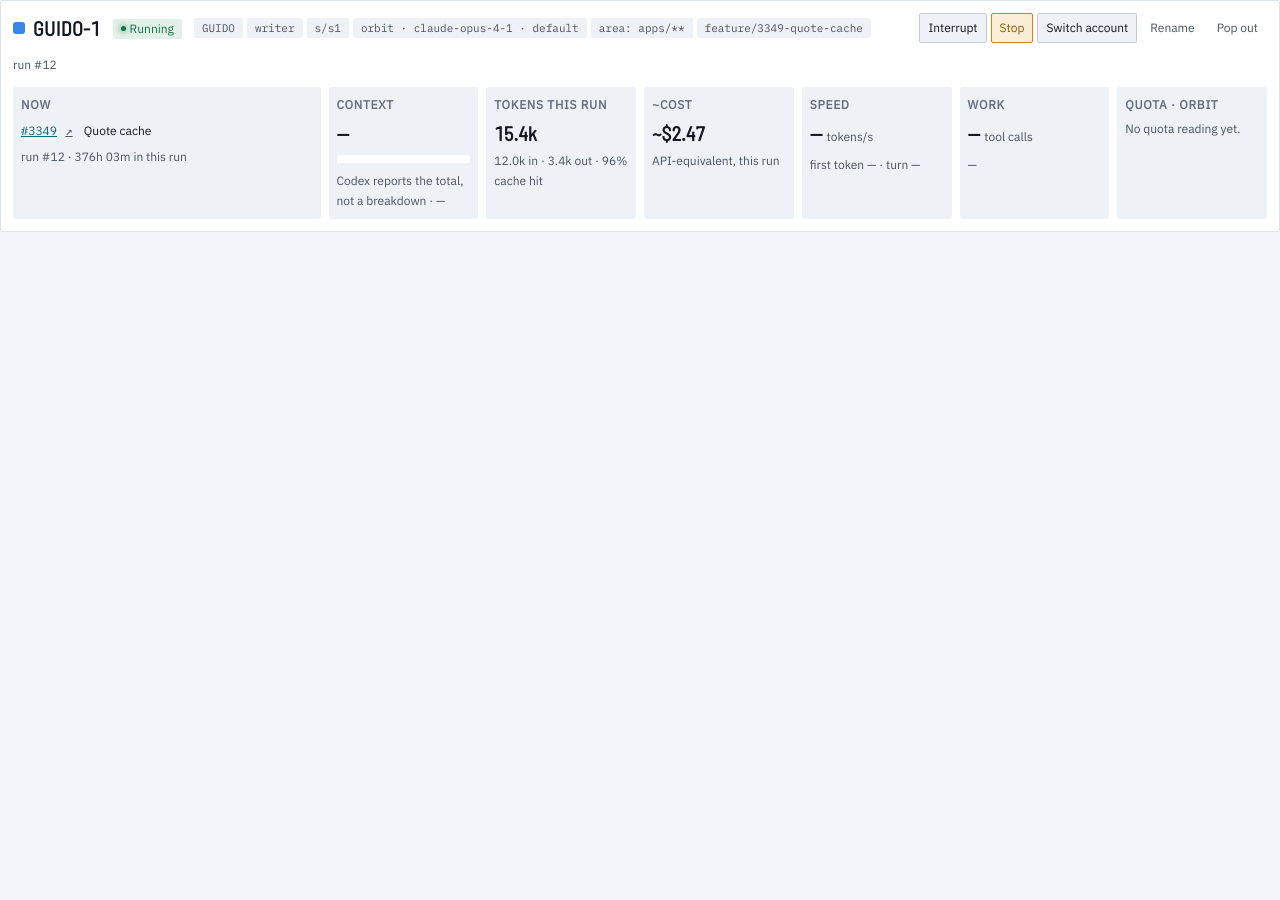
Test: reports resumed and refreshes data only after the explicit transfer
Click the button "Switch account".
click(1087, 28)  # box 1037,13 -> 1137,43
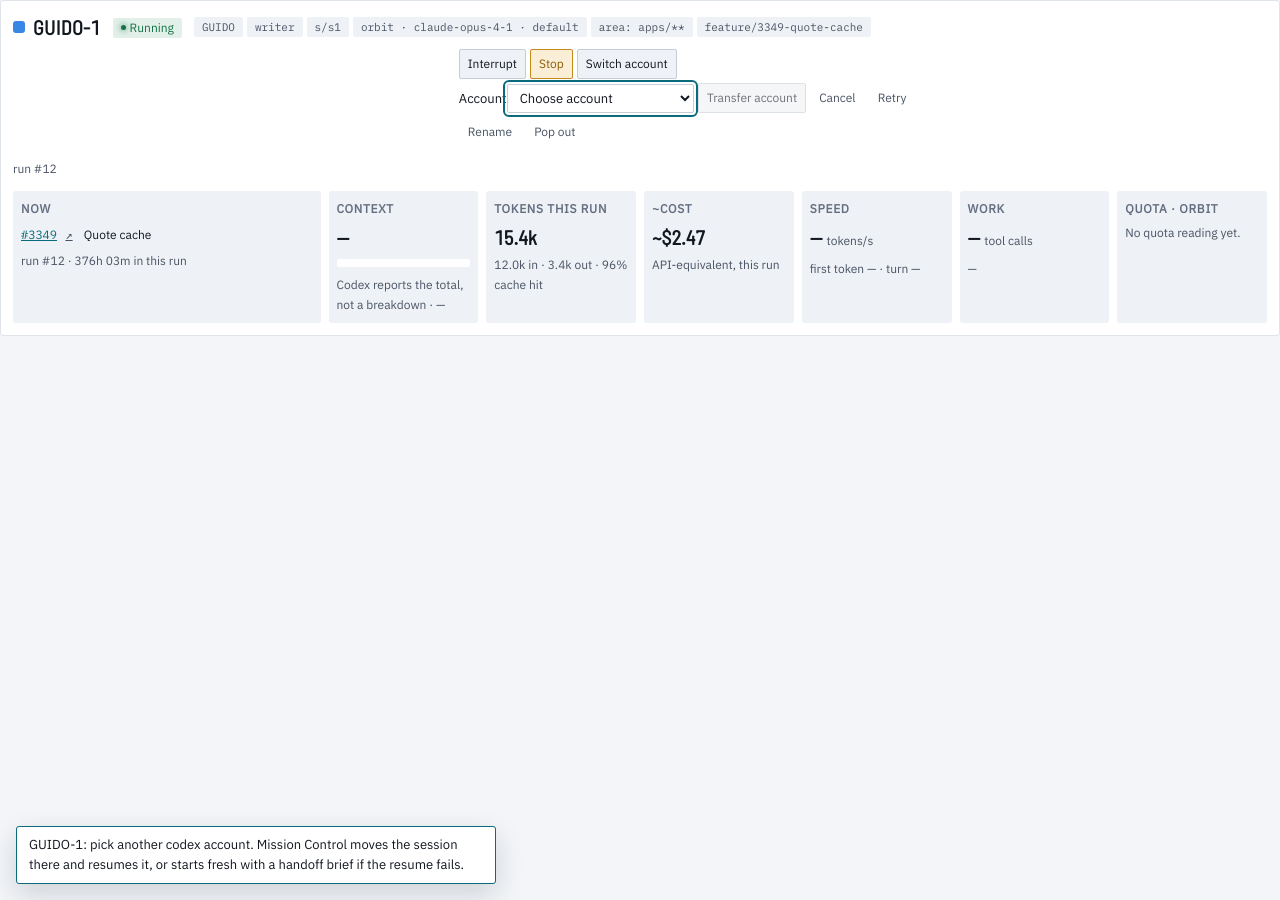
Select "nova · Available" in the dropdown labelled "Account" at [600, 98], box 507,84 -> 694,112
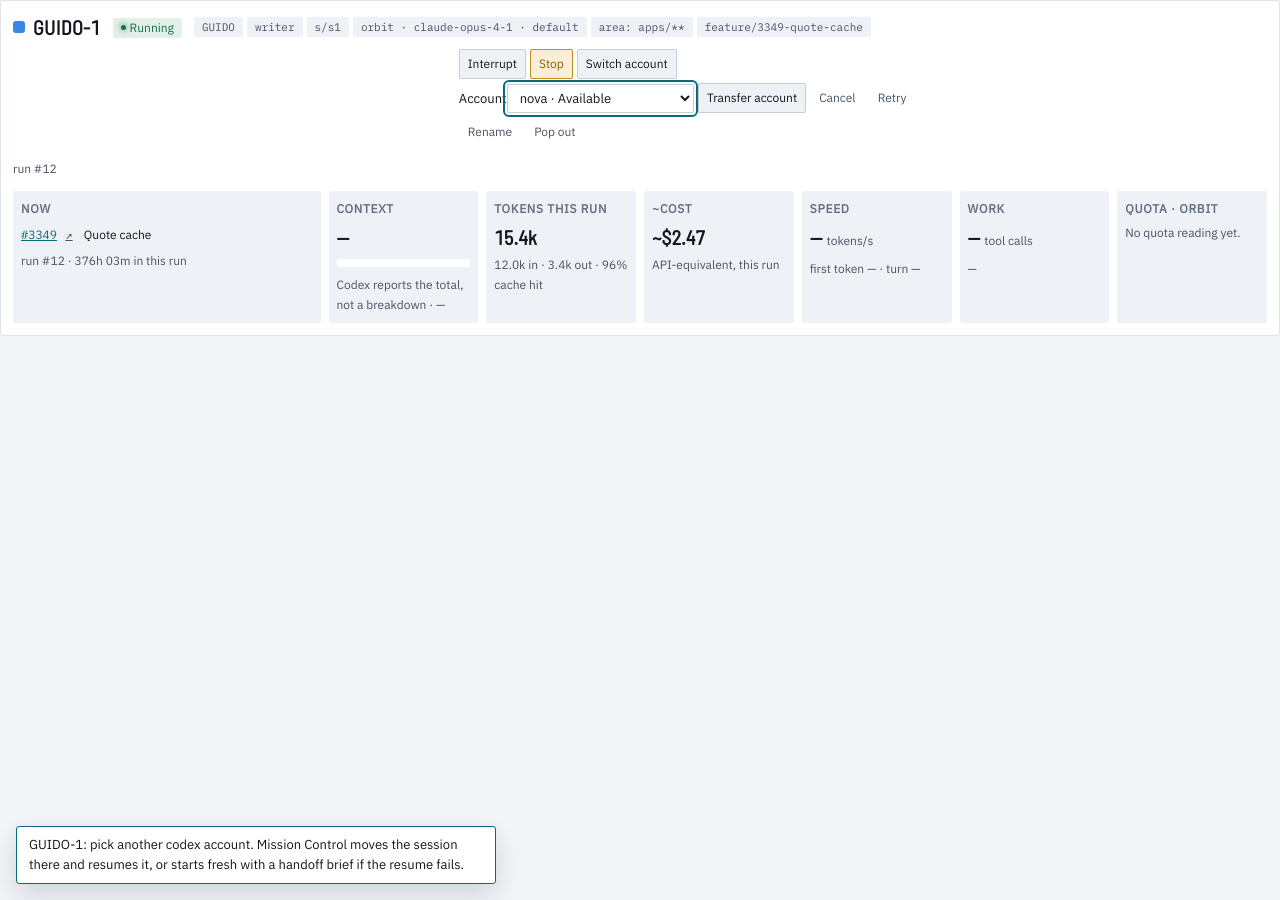
Check: the button "Transfer account" is enabled, box 698,83 -> 806,113
Submit the form named "Switch account", box 459,83 -> 915,113
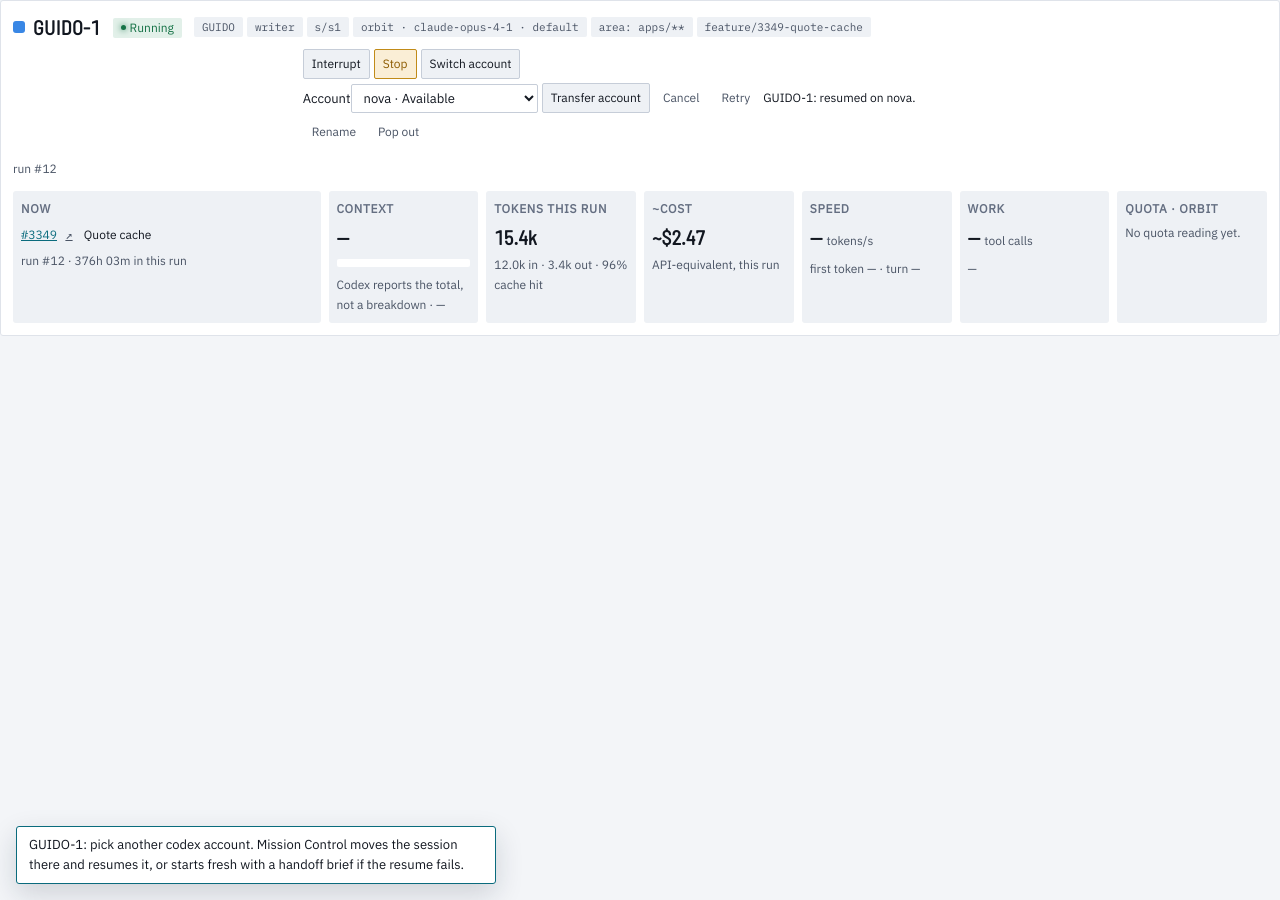
Check: the text titled "orbit ·" is shown, box 353,17 -> 587,37
Check: the text "GUIDO-1: resumed on nova." is shown, box 763,88 -> 916,108
